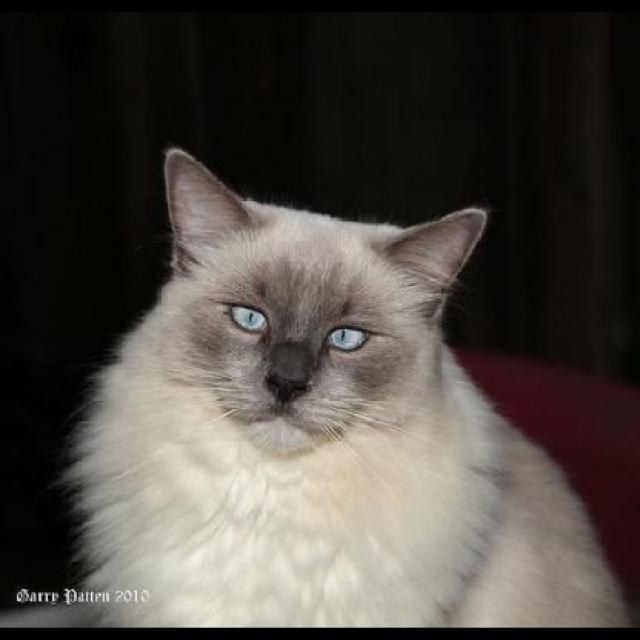unauthorized: (57, 145, 638, 628)
